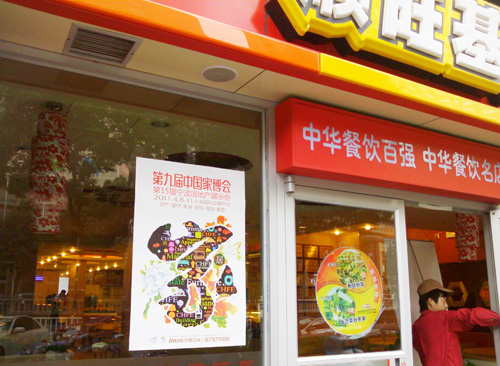bill: (129, 155, 246, 352), (314, 245, 384, 338)
